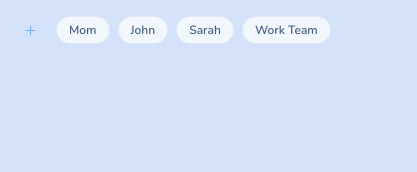
Test: TagInput › Tag Creation › shows error message when tag creation fails
The width and height of the screenshot is (417, 172).
Click the button named "Add new people tag" at (30, 30), box [12,12,48,48]
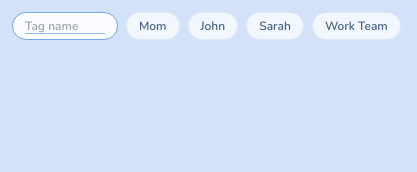
Type "New Person" into the field named "New people tag name" at (65, 26), box [25,18,105,34]
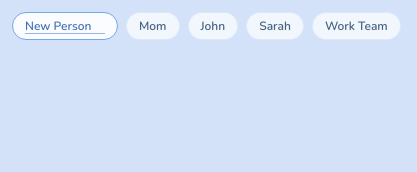
Press Enter in the field named "New people tag name", box [25,18,105,34]
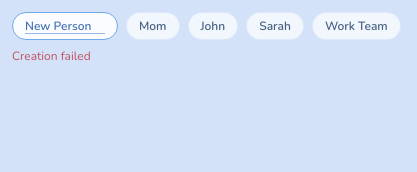
Now the text "Creation failed" is shown, box [12,48,91,64]
